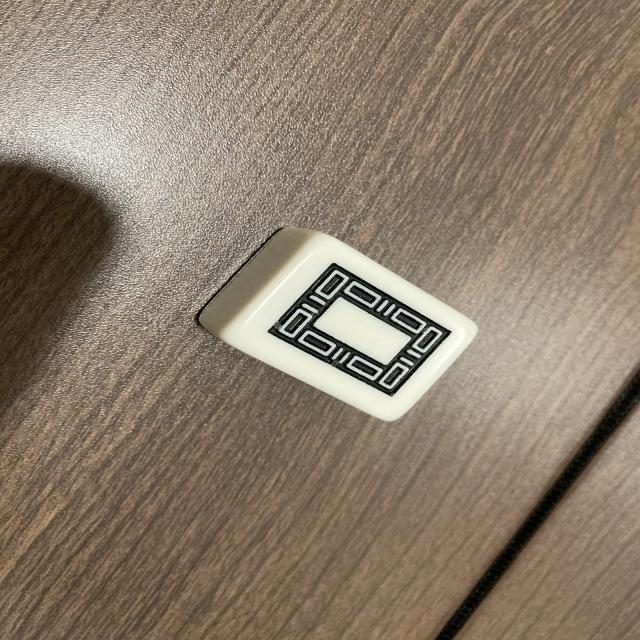bai: (226, 229, 478, 432)
